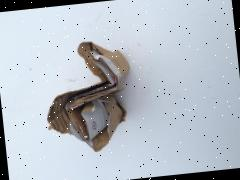cardboard: (16, 16, 186, 180)
